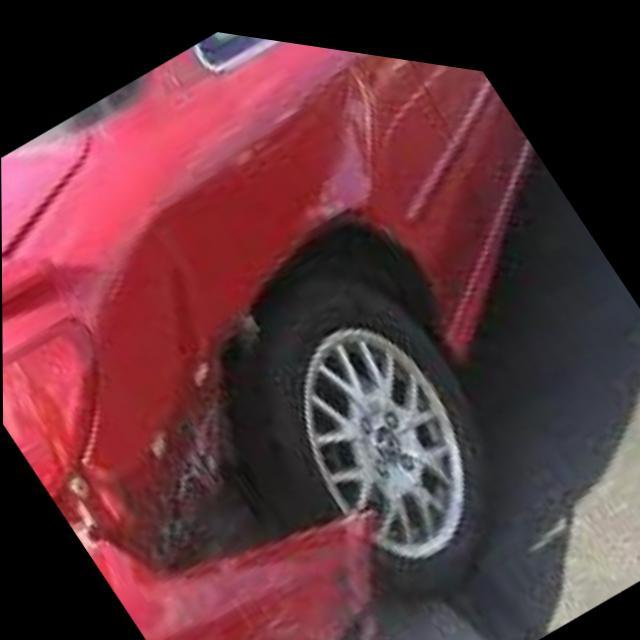dislocated part: (84, 504, 376, 640)
